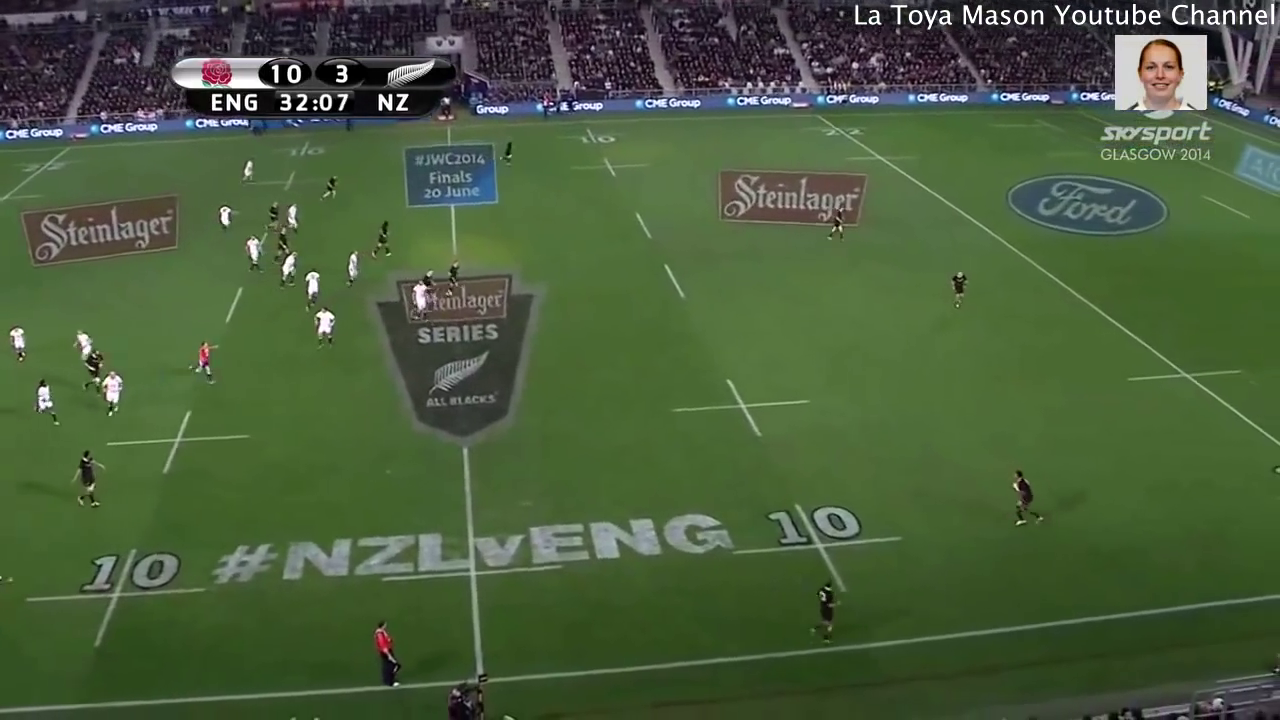10_metre: (21, 544, 202, 651), (724, 496, 909, 600), (98, 410, 257, 480), (669, 373, 820, 440), (247, 165, 338, 193), (571, 154, 655, 180), (557, 124, 633, 147), (273, 138, 333, 160)
player: (1001, 466, 1057, 536), (804, 576, 851, 646), (71, 447, 109, 512), (33, 374, 64, 429), (942, 264, 973, 318), (1, 321, 33, 367), (311, 303, 338, 357), (97, 371, 127, 419), (82, 347, 109, 398), (212, 200, 241, 243), (236, 235, 265, 275), (407, 278, 429, 328), (278, 246, 305, 285), (826, 203, 851, 245), (371, 216, 393, 262), (302, 265, 324, 308), (494, 136, 518, 175), (441, 260, 465, 296), (317, 173, 341, 209), (261, 194, 282, 234), (269, 232, 296, 263), (72, 328, 95, 364), (416, 263, 437, 301), (345, 245, 362, 288), (238, 156, 260, 189), (285, 202, 302, 236)
